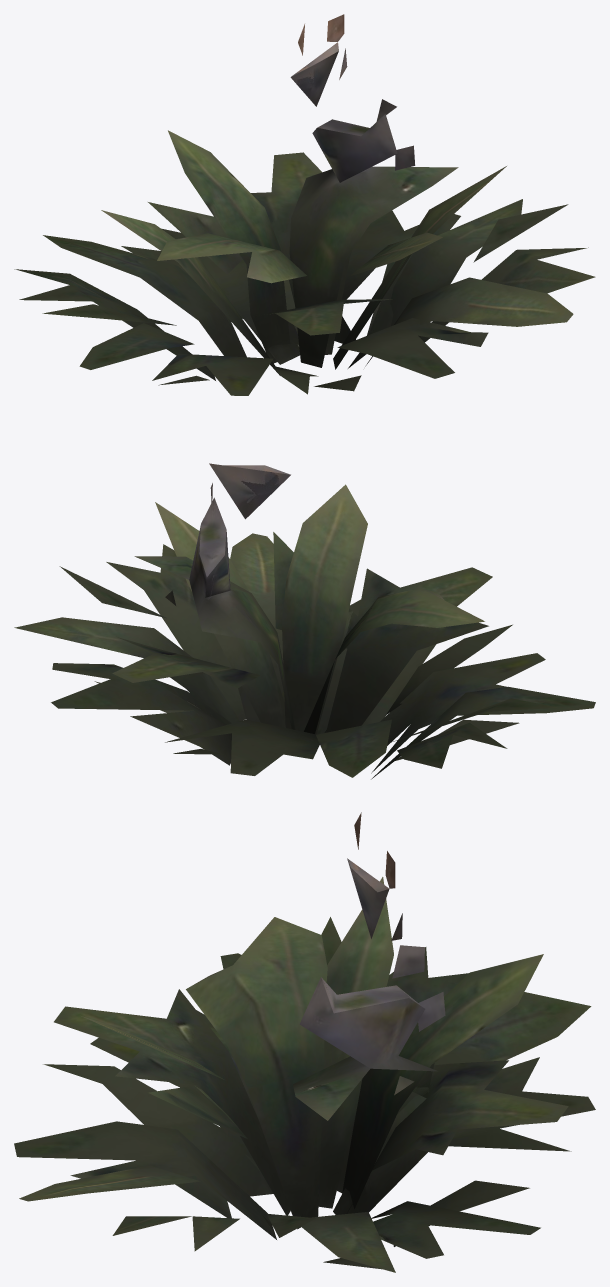
File: legacy_shrubs_shrub_12.glb
3 renders of one model, top to bottom at view 1: azimuth 30°, elevation 25°; view 2: azimuth 150°, elevation 25°; view 3: azimuth 270°, elevation 25°, orthographic. The views are drawn at different scales.
Visible parts, largest first — view 1: L_shrubs_shrub_12; view 2: L_shrubs_shrub_12; view 3: L_shrubs_shrub_12.
Boxes of the visible parts, <box> form: L_shrubs_shrub_12: <box>14,14,595,395</box>; L_shrubs_shrub_12: <box>14,463,595,779</box>; L_shrubs_shrub_12: <box>14,812,595,1272</box>.
Bounding box in the file's own units: 1.77 × 1.08 × 1.35.
1 material, 1 textured.
